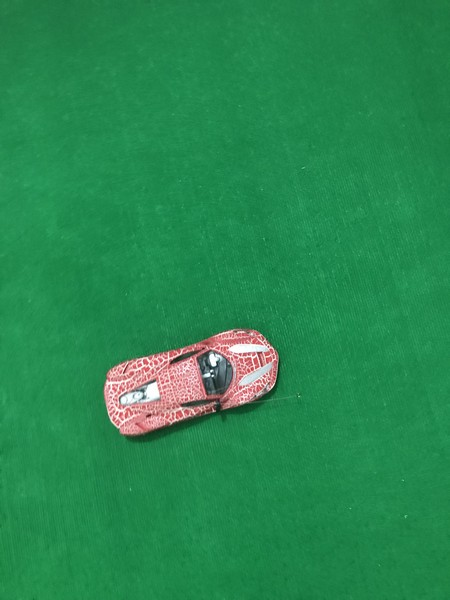RC: (101, 327, 283, 438)
